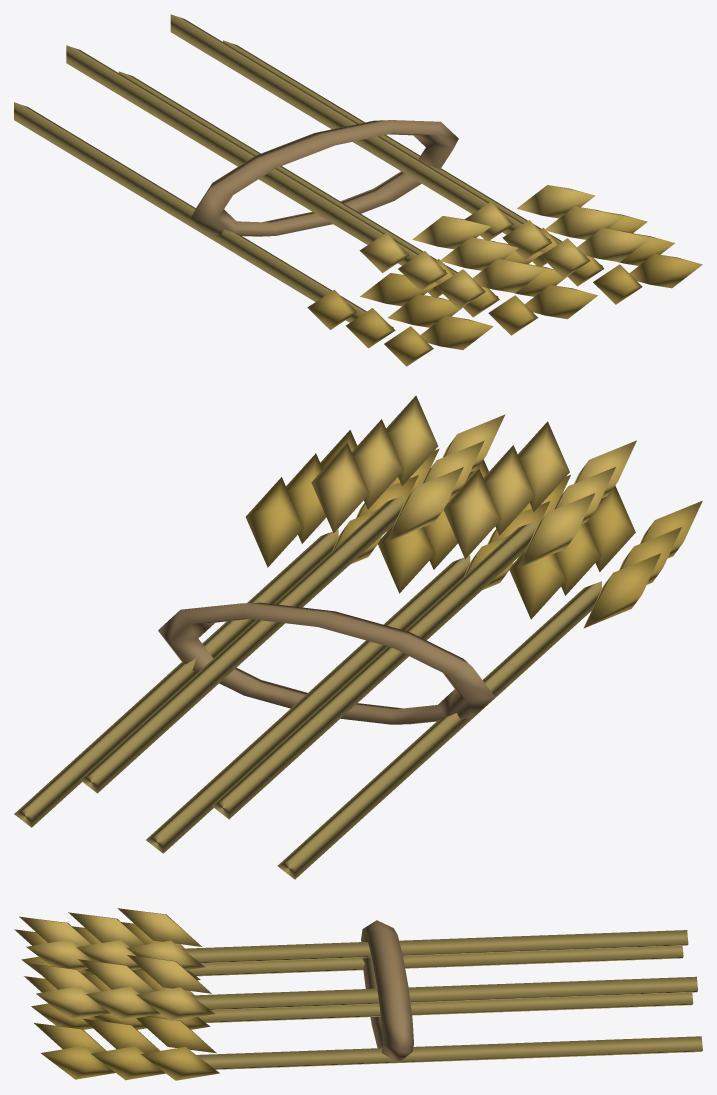
File: pile-rice-1.gltf
3 views of the same model, one above another, from view 1: azimuth 30°, elevation 25°; view 2: azimuth 150°, elevation 25°; view 3: azimuth 270°, elevation 25° (orthographic). The views are drawn at different scales.
Visible parts, largest first — view 1: pile-rice-1; view 2: pile-rice-1; view 3: pile-rice-1.
Part boxes in pixels (x1,y1,x2,y2): pile-rice-1: [14, 14, 702, 366]; pile-rice-1: [14, 395, 702, 879]; pile-rice-1: [14, 908, 702, 1080].
Bounding box in the file's own units: 0.2201 × 0.0648 × 0.455.
